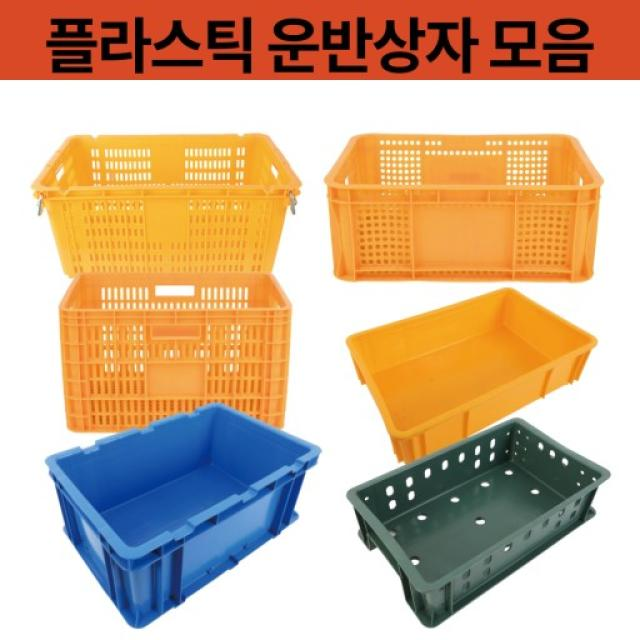basket: (23, 329, 344, 635), (336, 364, 627, 634), (340, 240, 610, 468), (325, 135, 605, 282), (30, 133, 303, 276), (58, 271, 294, 433)
